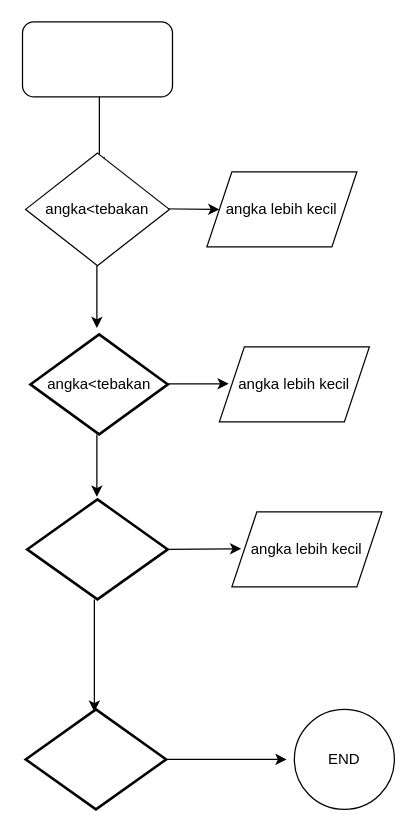
This 416x833 diagram has some shape labels left out. Each missing label, with the centre of its shape:
"angka=tebakan" belongs at [95,759].
"angka>tebakan" belongs at [96,549].
"START" belongs at [96,59].
